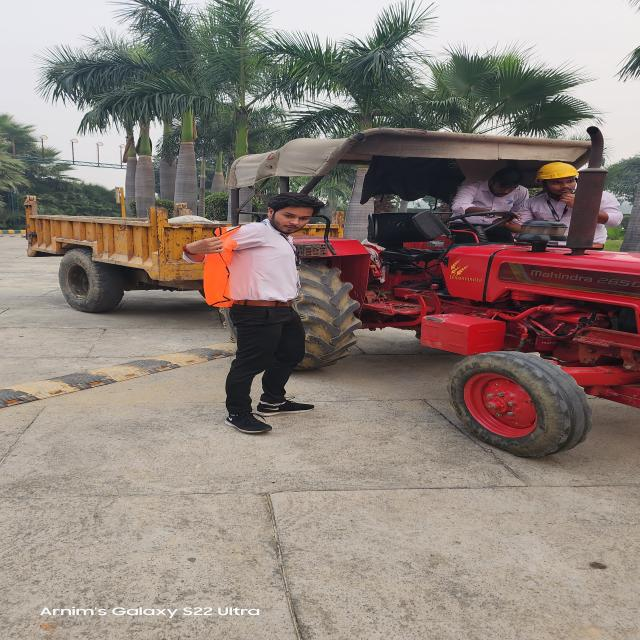no jacket: (520, 161, 623, 250)
unsafe: (184, 192, 327, 436), (452, 167, 530, 246)
